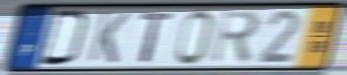0: (175, 7, 215, 68)
2: (255, 8, 301, 65)
D: (37, 8, 92, 68)
K: (85, 11, 131, 65)
R: (209, 9, 262, 66)
T: (139, 11, 176, 64)
